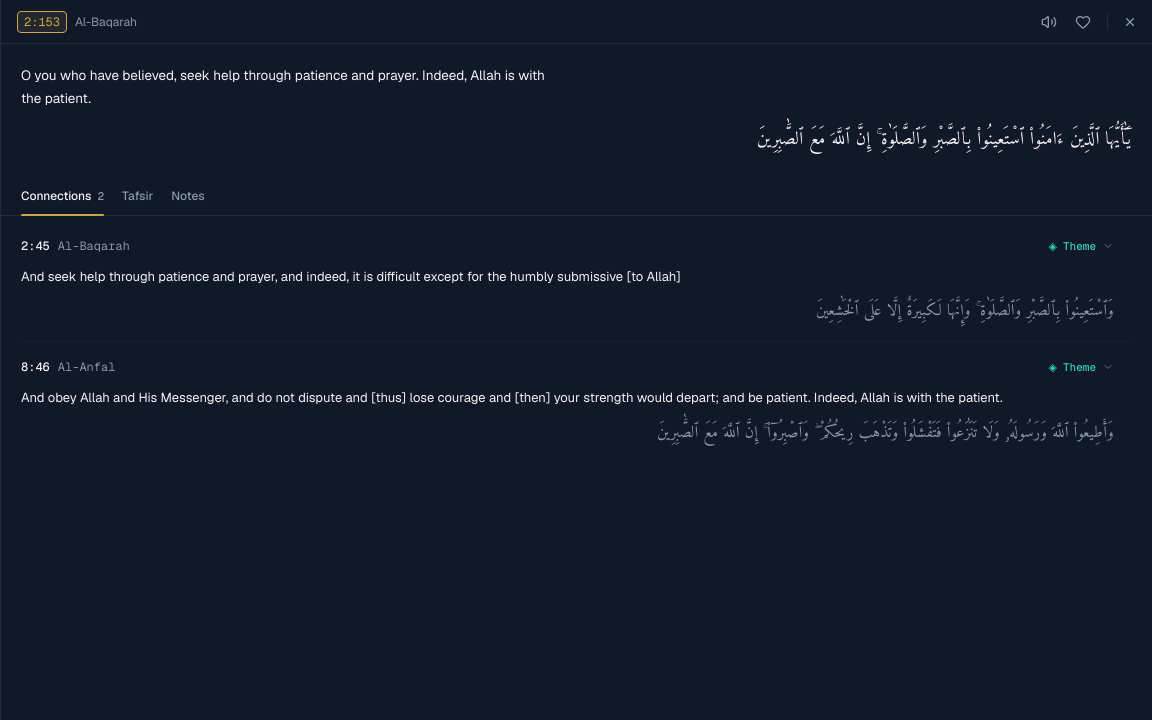
Test case: ContextSidebar — reading views › opens a pair with the verse you came from first and its reason closed
This screenshot has width=1152, height=720.
Click the button with aria-label "Read 2:153 and 2:45 together". click: (75, 246)
box: [21,238,130,254]
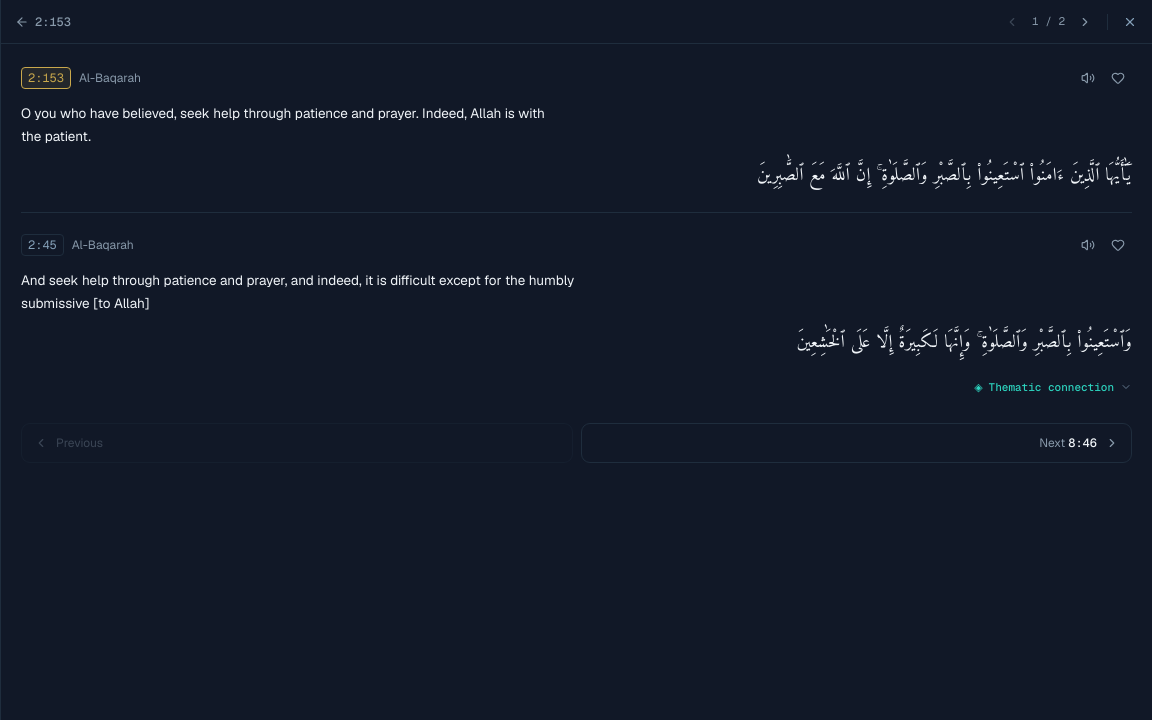
Result: the text "1 / 2" is shown at [1032,14,1065,28]
Click the button with aria-label "Why connected: Thematic connection". click: (1053, 387)
box: [967,375,1138,399]
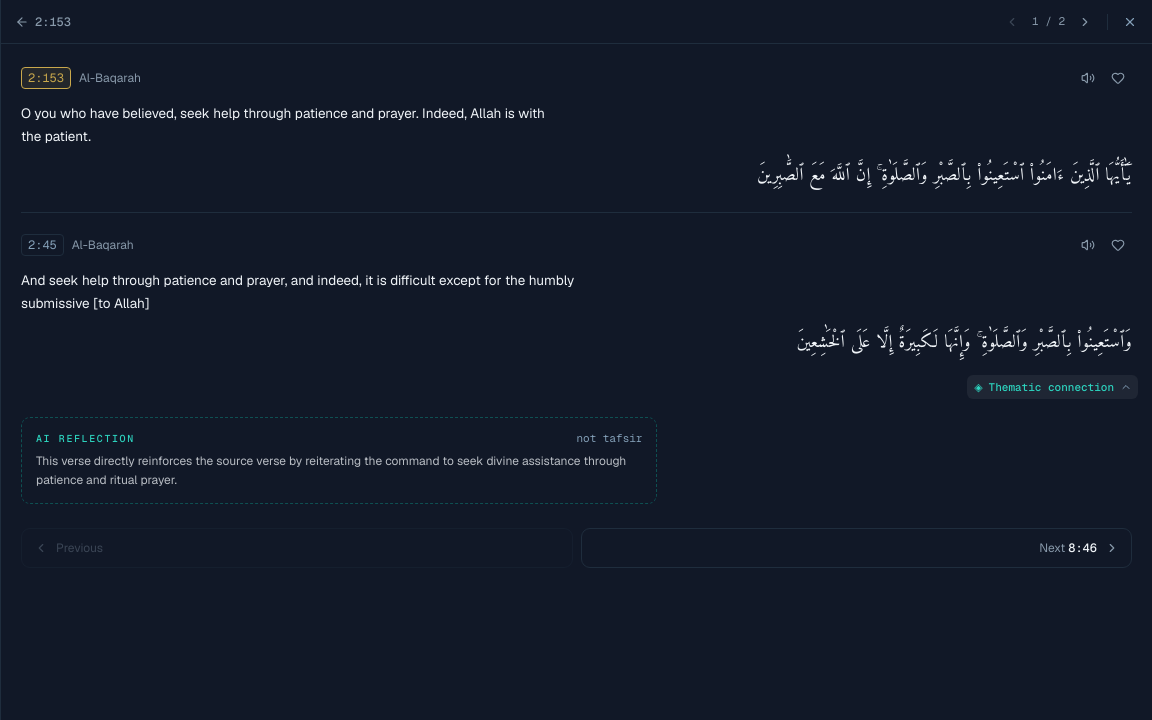
Result: the text "AI reflection" is shown at [36,431,135,446]
